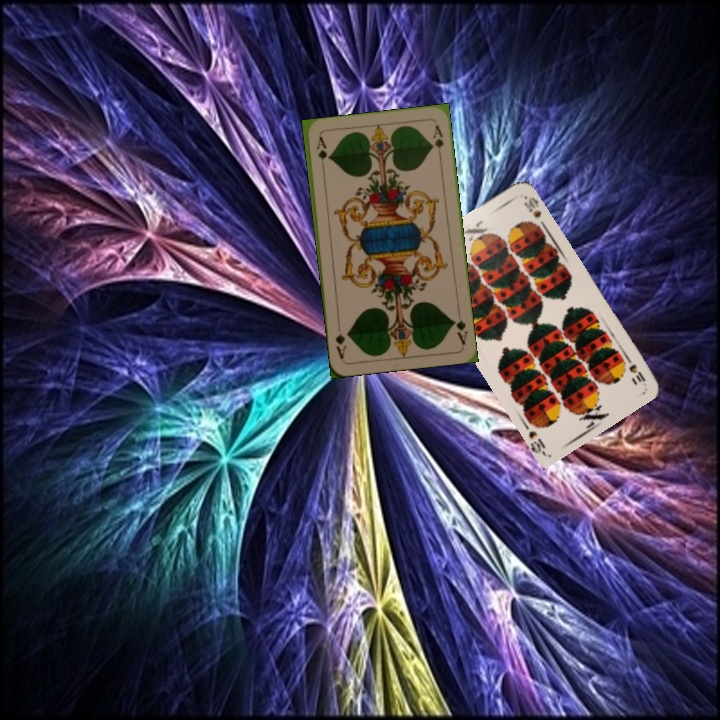GA: (449, 306, 470, 347), (312, 132, 329, 173)
S10: (621, 351, 648, 388)
